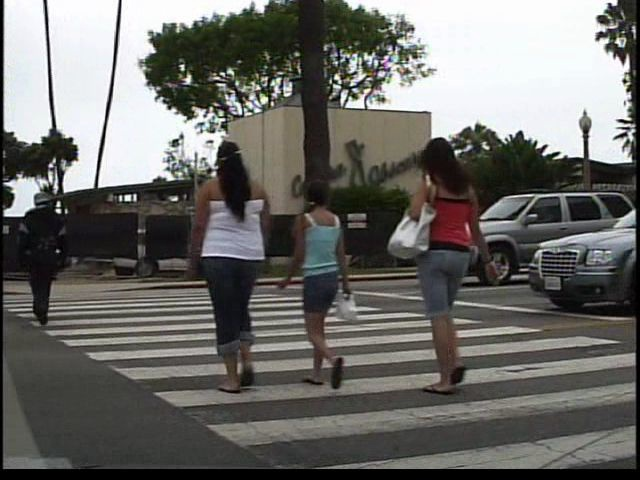person: (408, 130, 512, 397), (192, 134, 291, 407), (287, 170, 361, 395), (15, 180, 81, 332)
